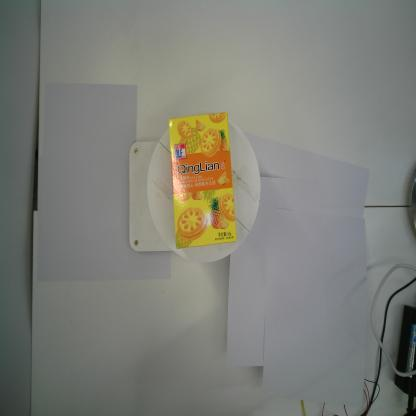Dessert: (168, 110, 238, 250)
